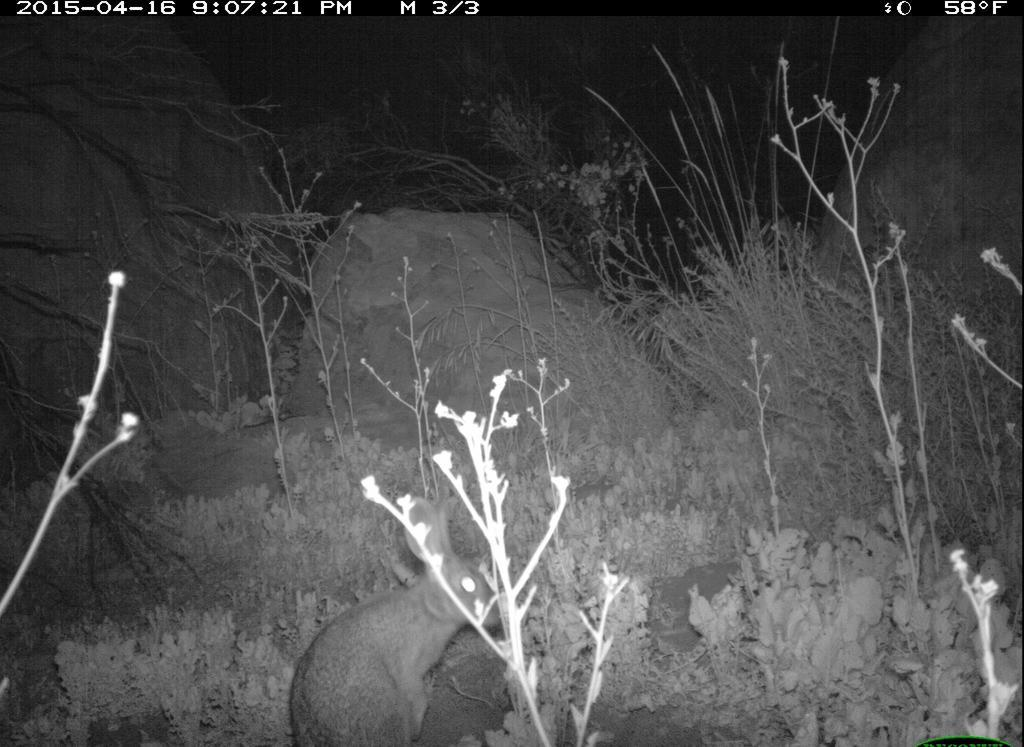rabbit: (274, 488, 513, 747)
